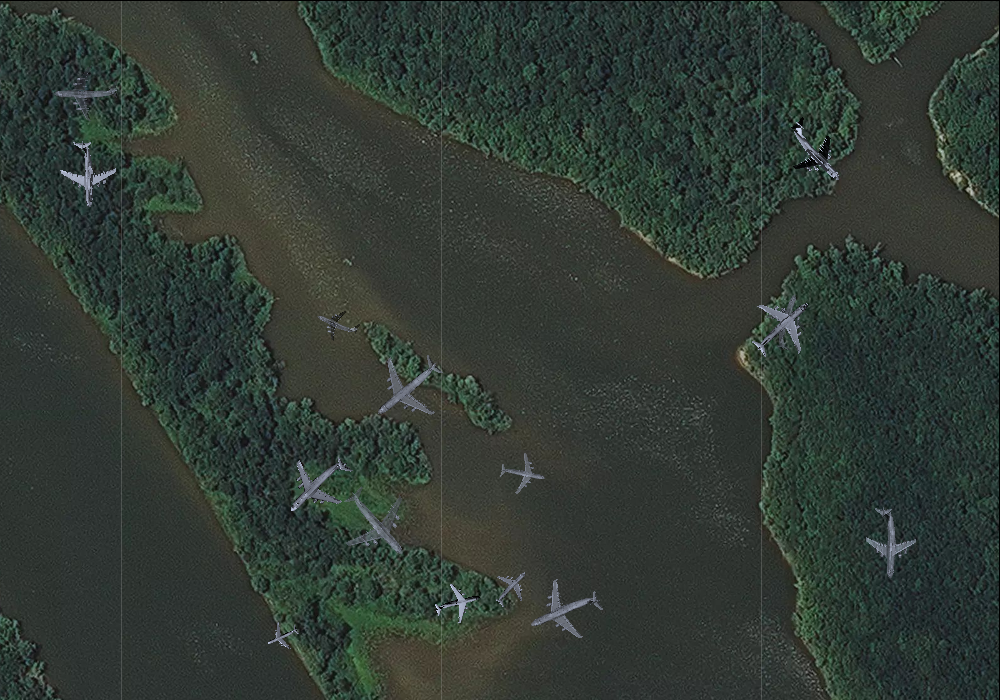plane: (321, 468, 431, 578), (353, 334, 461, 441), (268, 436, 368, 536), (517, 564, 613, 659), (769, 103, 864, 198), (735, 279, 829, 374), (855, 506, 920, 580), (755, 286, 821, 356), (53, 139, 118, 207), (52, 60, 118, 122), (483, 560, 540, 617), (310, 296, 365, 349), (429, 577, 484, 630), (495, 448, 550, 500), (260, 615, 303, 657)
